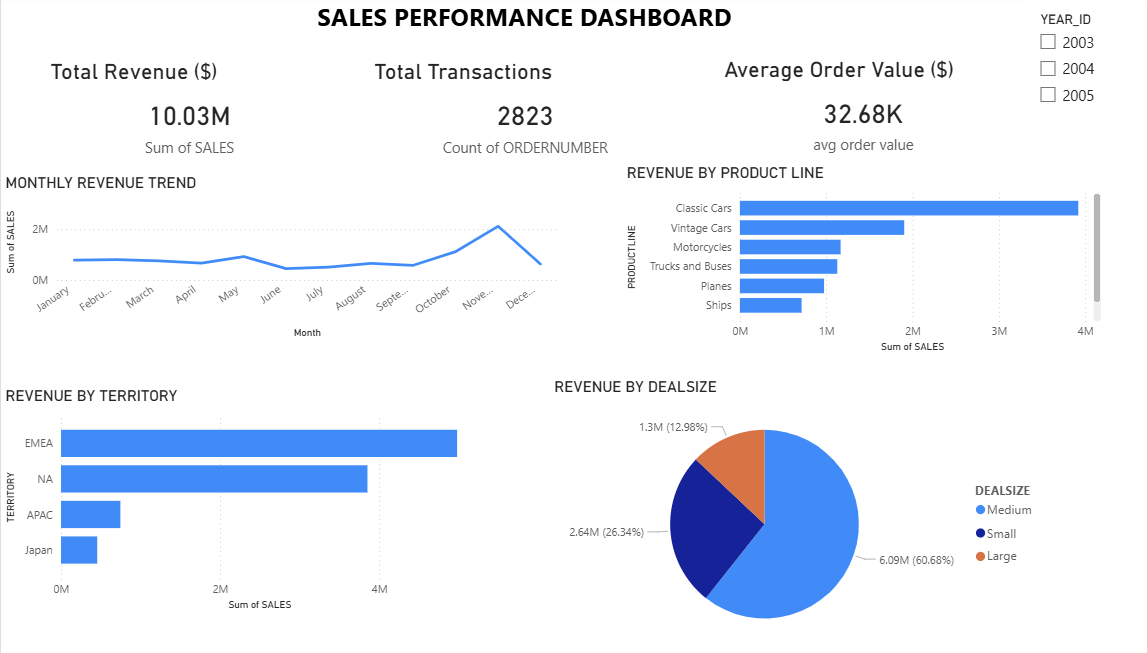

The dashboard page shown, as its layout file describes it:
{"tool":"powerbi","page":{"name":"Page 1","canvas":[1280,720],"ordinal":0},"visuals":[{"type":"card","title":"Total Revenue ($)","fields":{"Values":["Sum(sales_clean.SALES)"]},"box":[49.4,70,314.2,116.6],"z":0},{"type":"card","title":"Total Transactions","fields":{"Values":["CountNonNull(sales_clean.ORDERNUMBER)"]},"box":[403.4,70,340.3,116.6],"z":1000},{"type":"lineChart","title":"MONTHLY REVENUE TREND","fields":{"Y":["Sum(sales_clean.SALES)"],"Category":["sales_clean.ORDERDATE.Variation.Date Hierarchy.Month"]},"box":[0,194.9,613.4,185.2],"z":2000},{"type":"card","title":"Average Order Value ($)","fields":{"Values":["sales_clean.avg order value"]},"box":[786.3,67.2,314.2,116.6],"z":3000},{"type":"clusteredBarChart","title":"REVENUE BY PRODUCT LINE","fields":{"Category":["sales_clean.PRODUCTLINE"],"Y":["Sum(sales_clean.SALES)"]},"box":[679.2,183.9,528.3,211.3],"z":4000},{"type":"clusteredBarChart","title":"REVENUE BY TERRITORY","fields":{"Category":["sales_clean.TERRITORY"],"Y":["Sum(sales_clean.SALES)"]},"box":[0,428.1,514.6,249.7],"z":5000},{"type":"pieChart","title":"REVENUE BY DEALSIZE","fields":{"Y":["Sum(sales_clean.SALES)"],"Category":["sales_clean.DEALSIZE"]},"box":[599.7,418.5,548.9,301.9],"z":6000},{"type":"textbox","box":[155.1,0,835.7,67.2],"z":7000},{"type":"slicer","fields":{"Values":["sales_clean.YEAR_ID"]},"box":[1122.5,13.7,157.8,112.5],"z":8000}]}

Visuals, with their boxes in screenshot pixels (x1, y1, x2, y2), scaled from the page's 1280x720 canvas onto the 1147x653 screenshot:
"Total Revenue ($)" card: <bbox>44, 63, 326, 169</bbox>
"Total Transactions" card: <bbox>361, 63, 666, 169</bbox>
"MONTHLY REVENUE TREND" lineChart: <bbox>0, 177, 550, 345</bbox>
"Average Order Value ($)" card: <bbox>705, 61, 986, 167</bbox>
"REVENUE BY PRODUCT LINE" clusteredBarChart: <bbox>609, 167, 1082, 358</bbox>
"REVENUE BY TERRITORY" clusteredBarChart: <bbox>0, 388, 461, 615</bbox>
"REVENUE BY DEALSIZE" pieChart: <bbox>537, 380, 1029, 652</bbox>
textbox: <bbox>139, 0, 888, 61</bbox>
slicer - sales_clean.YEAR_ID: <bbox>1006, 12, 1146, 114</bbox>
